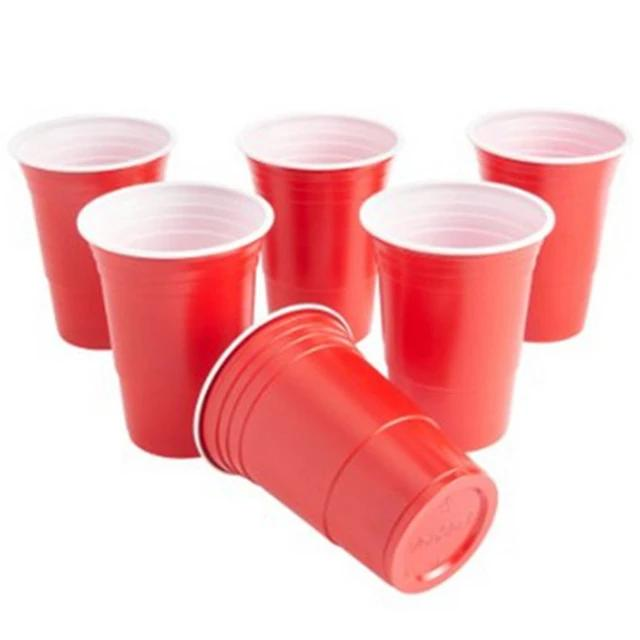Single-Use-Plastic: (194, 304, 498, 592), (78, 182, 272, 458), (360, 181, 554, 449), (9, 116, 174, 348), (468, 111, 628, 341), (238, 115, 398, 339)
